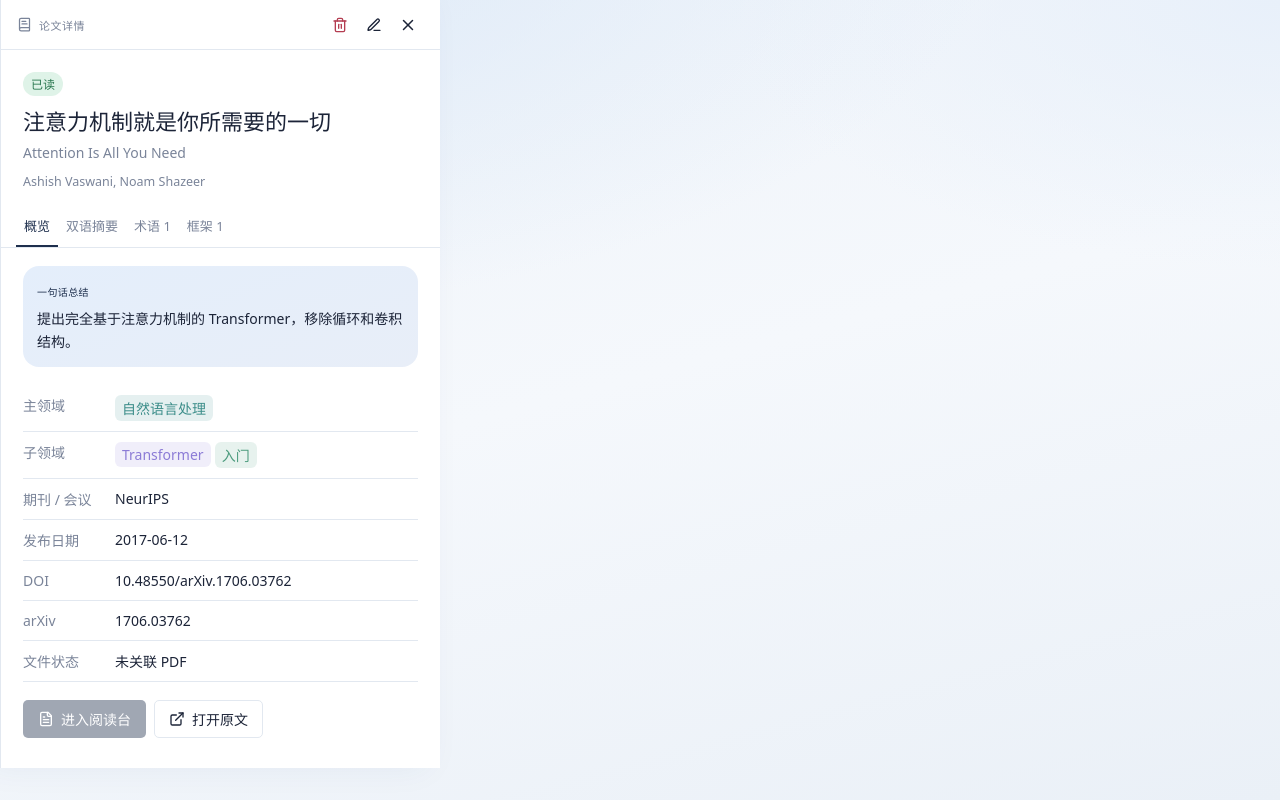
it: framework figure loading › shows a read error instead of an empty framework image placeholder
Click the button "框架 1" at (205, 226), box [179,206,232,247]
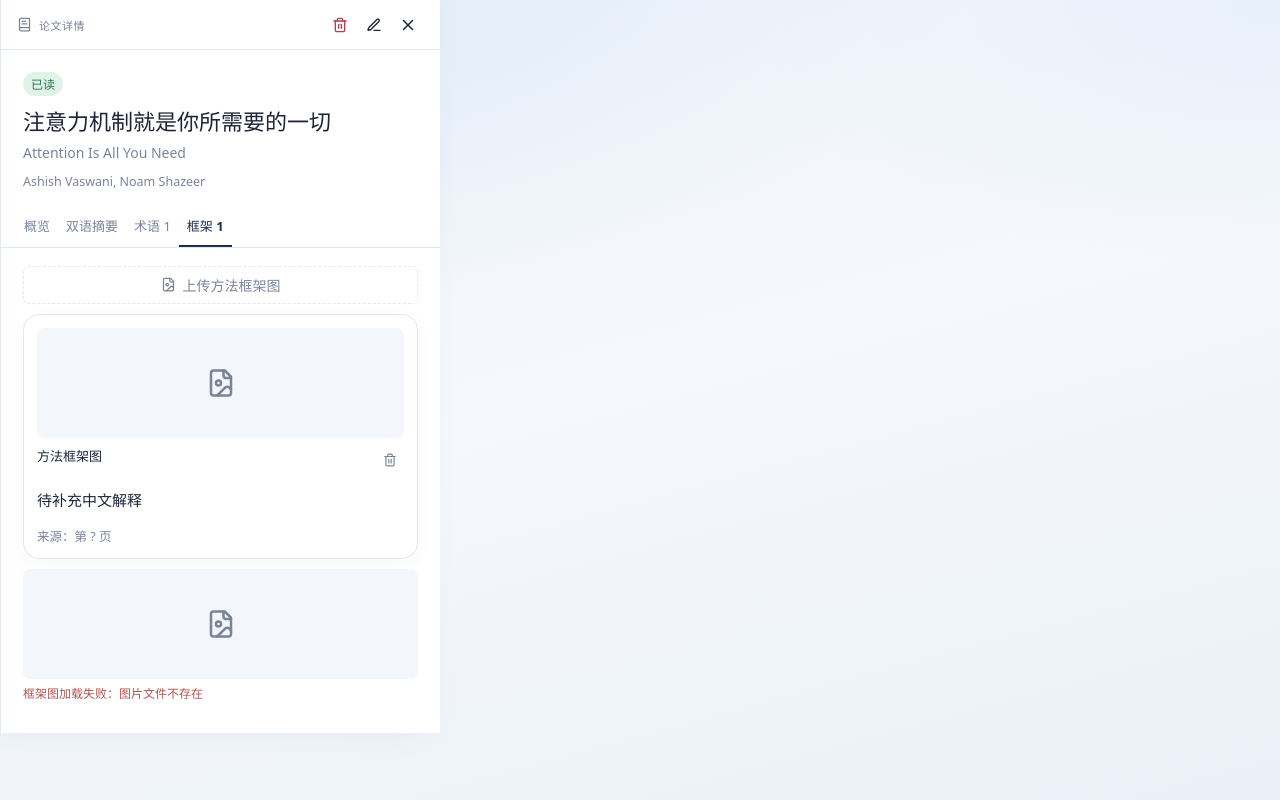
Now the message reads "框架图加载失败：图片文件不存在", box [23,685,203,702]
